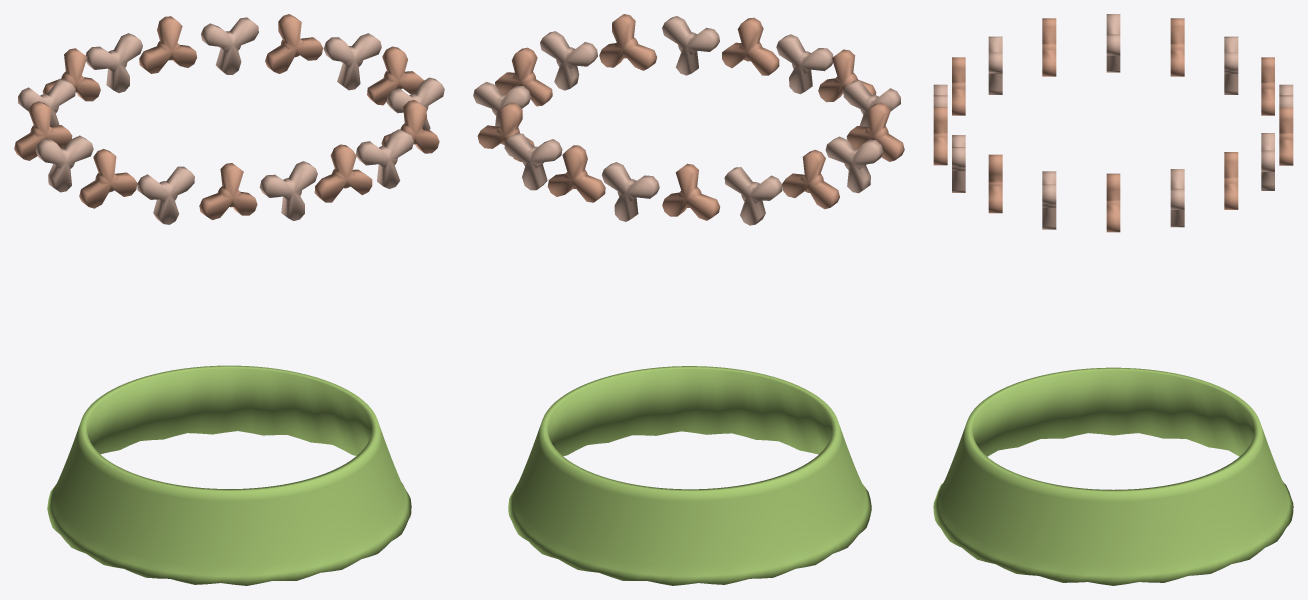
Rendered from island_shisa.glb.
The picture shows the model from 3 angles, left to right: view 1: azimuth 30°, elevation 25°; view 2: azimuth 150°, elevation 25°; view 3: azimuth 270°, elevation 25°; orthographic projection.
Visible parts, largest first — view 1: island_shisa; view 2: island_shisa; view 3: island_shisa.
Part boxes in pixels (bbox=[...]): island_shisa: bbox=[14, 14, 444, 585]; island_shisa: bbox=[473, 14, 904, 585]; island_shisa: bbox=[933, 14, 1293, 585].
Bounding box in the file's own units: 0.7445 × 0.7811 × 0.6143.
